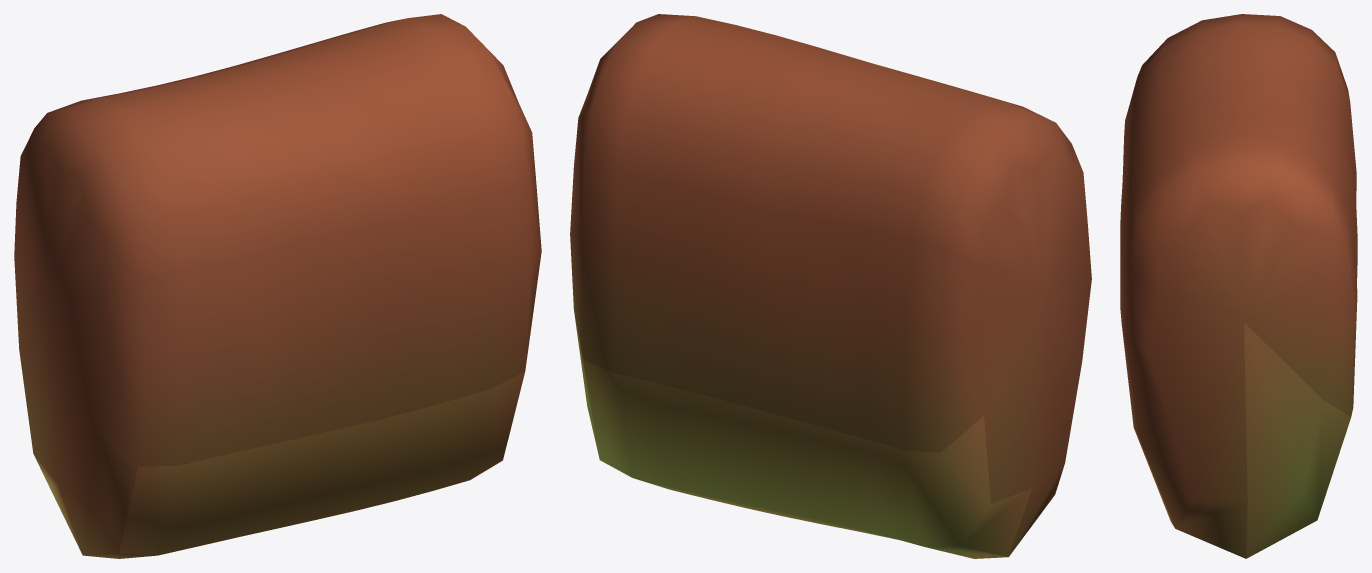
The model's file is mire_saucer_rim_b.glb.
3 views of the same model, side by side, from view 1: azimuth 30°, elevation 25°; view 2: azimuth 150°, elevation 25°; view 3: azimuth 270°, elevation 25° (orthographic). The views are drawn at different scales.
Parts seen in each view (by area): view 1: mire_saucer_rim_b; view 2: mire_saucer_rim_b; view 3: mire_saucer_rim_b.
Boxes of the visible parts, box(x1,y1,x2,y2) form: mire_saucer_rim_b: box(14, 14, 541, 558); mire_saucer_rim_b: box(570, 14, 1091, 558); mire_saucer_rim_b: box(1120, 14, 1357, 558).
Bounding box in the file's own units: 3.04 × 3.02 × 1.6.
